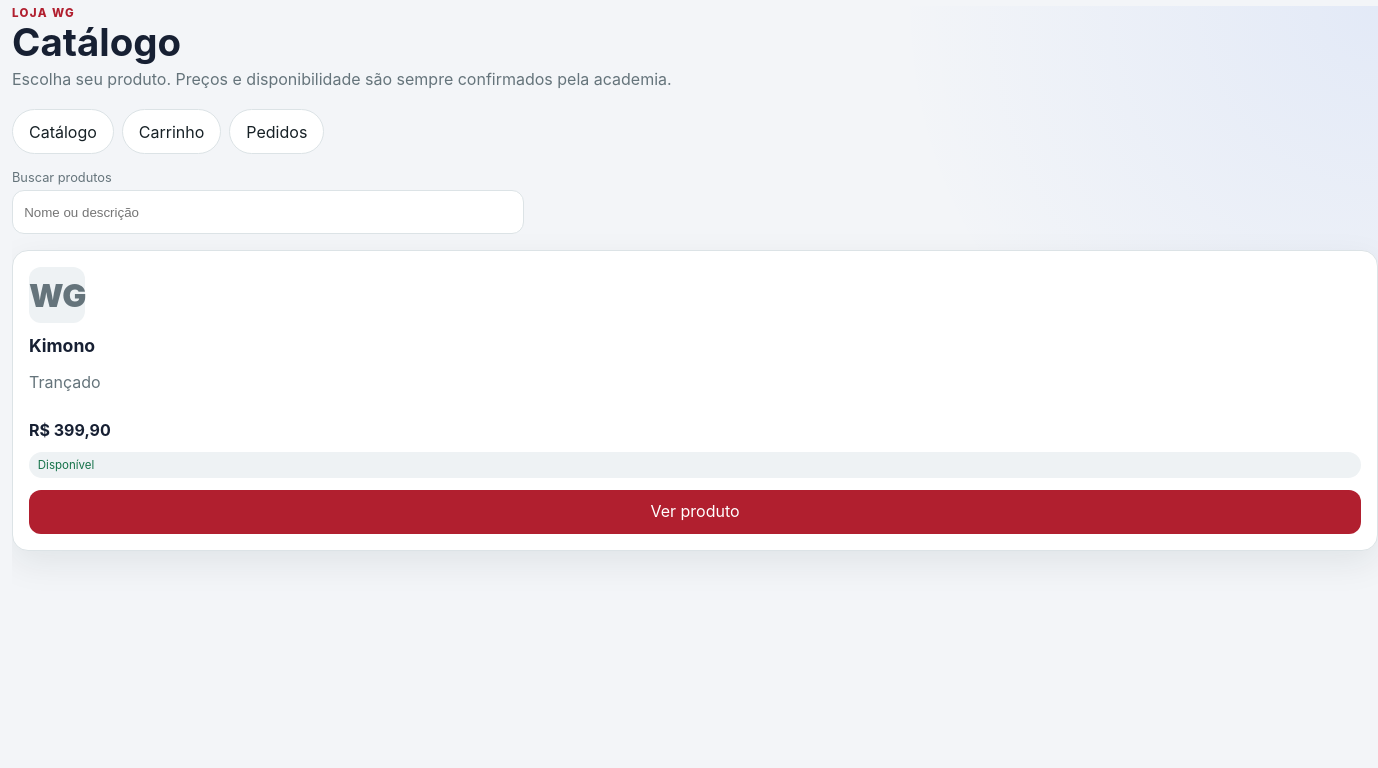
Test case: student store pages › supports catalog search and empty results
expect the heading "Kimono" is shown: met, box [29, 335, 95, 356]
Step 1. Type "faixa" into the search field labelled "Buscar produtos" → (268, 212), box [12, 190, 524, 234]
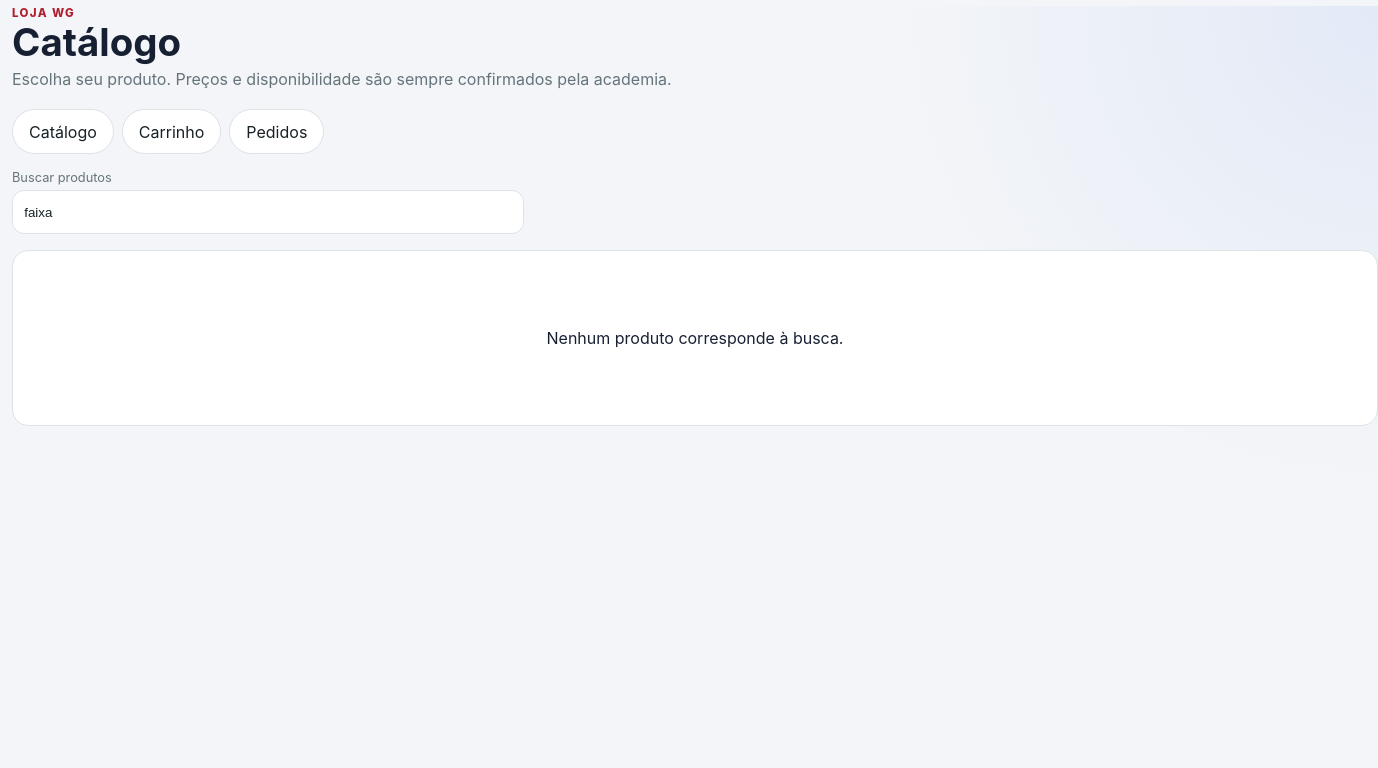
expect the text "Nenhum produto corresponde à busca." is shown: met, box [546, 328, 843, 348]
